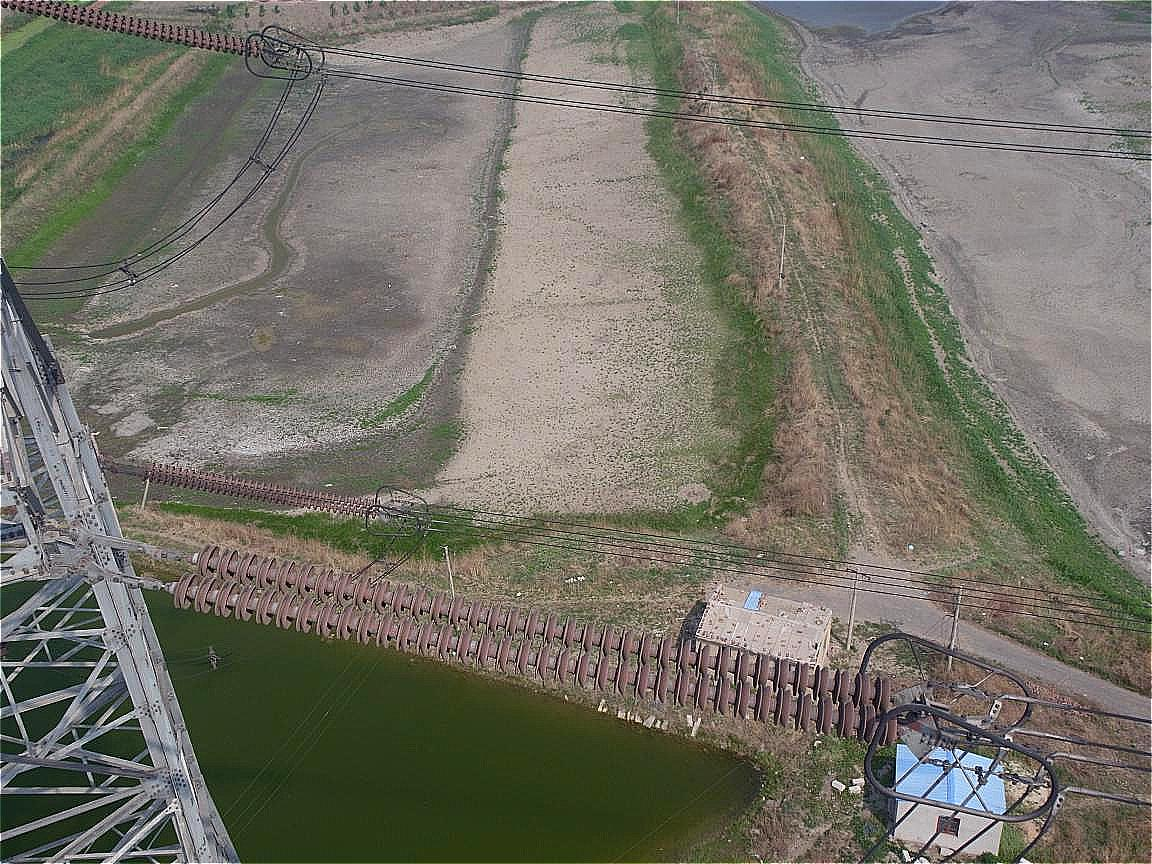insultor1: (1, 1, 278, 71), (122, 459, 394, 519)
insultor2: (146, 544, 930, 754)
